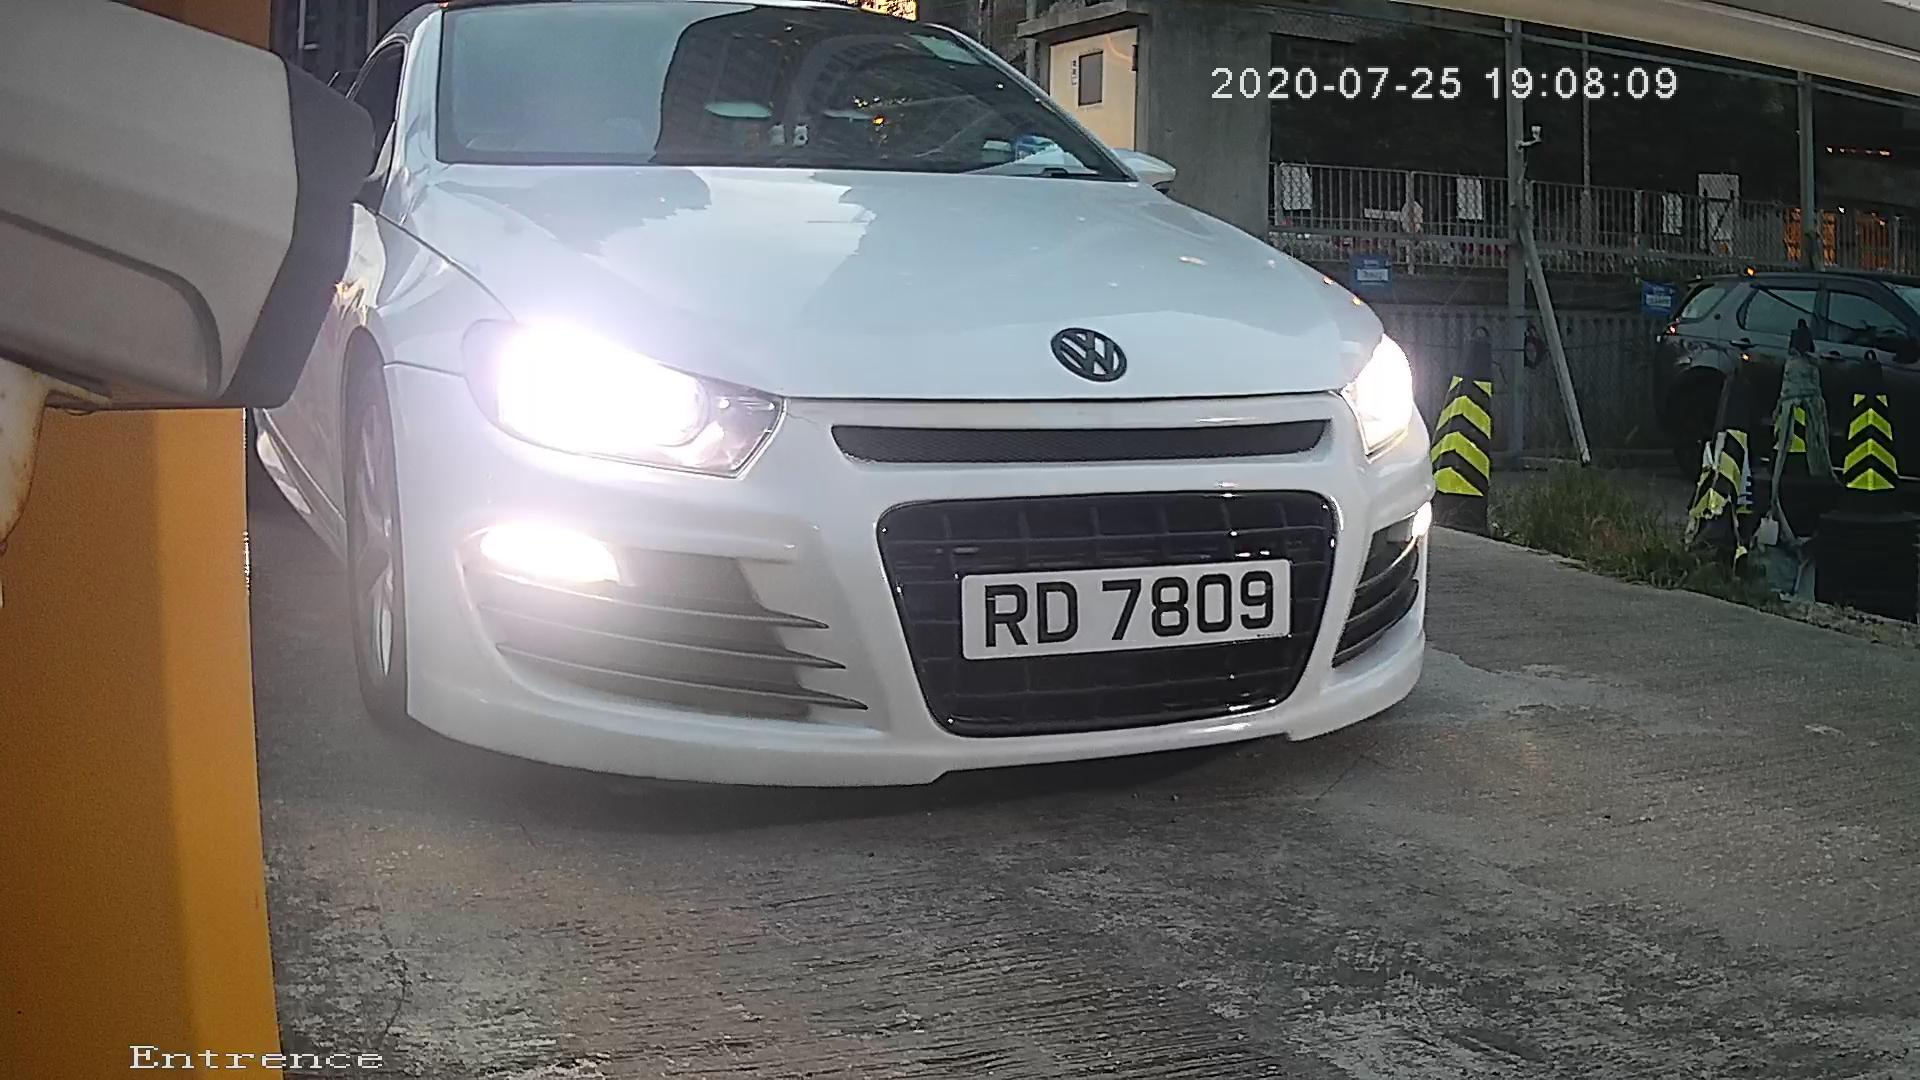License Plate: (926, 555, 1312, 666)
